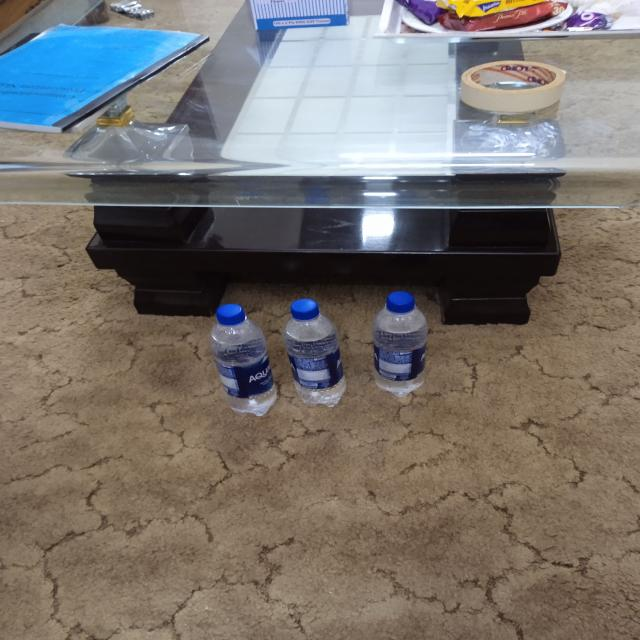Plastic: (211, 303, 275, 414), (285, 296, 347, 410), (373, 290, 431, 396)
